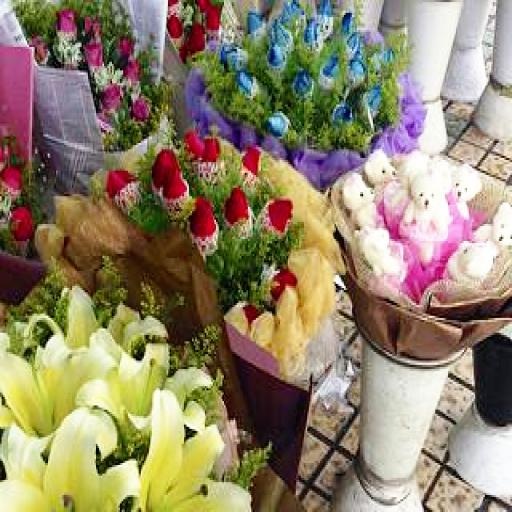rose: (152, 145, 181, 188), (192, 194, 216, 243), (262, 196, 293, 233), (107, 168, 138, 202), (198, 139, 224, 179), (224, 190, 250, 226), (165, 177, 189, 209), (244, 145, 262, 186), (184, 130, 203, 160)
